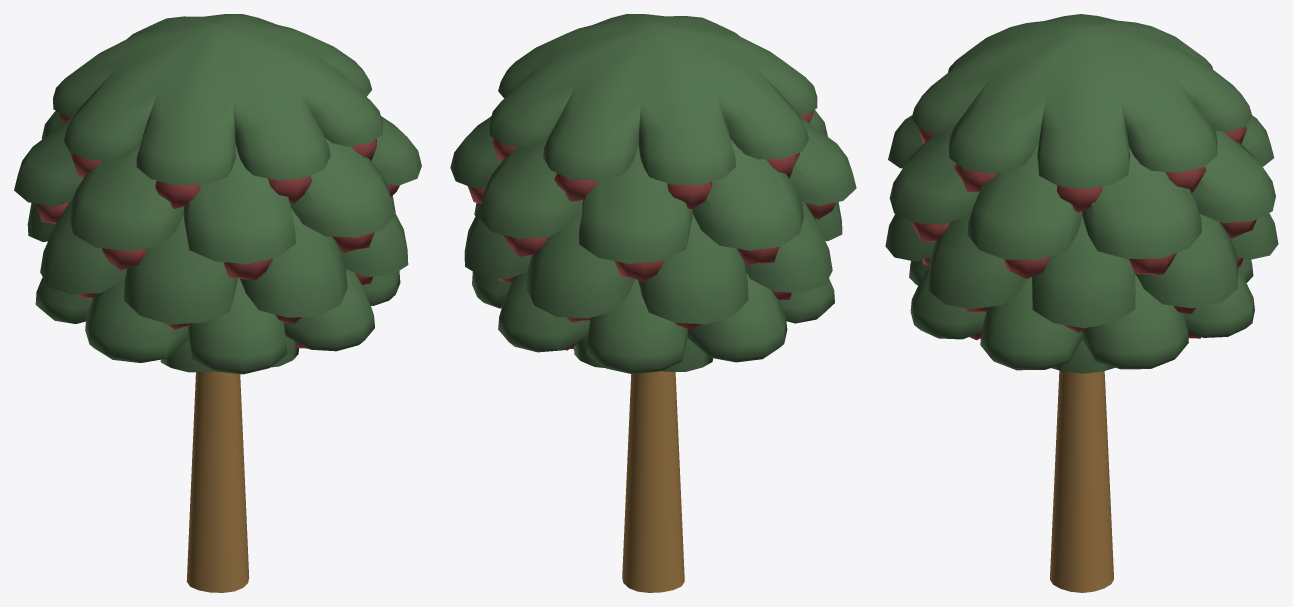
File: Tree_Fruit.001.fbx
3 renders of one model, left to right at view 1: azimuth 30°, elevation 25°; view 2: azimuth 150°, elevation 25°; view 3: azimuth 270°, elevation 25°, orthographic.
Visible parts, largest first — view 1: Tree_Fruit.001; view 2: Tree_Fruit.001; view 3: Tree_Fruit.001.
Part boxes in pixels (left/top/right/bottom): Tree_Fruit.001: left=14, top=14, right=421, bottom=592; Tree_Fruit.001: left=450, top=14, right=856, bottom=592; Tree_Fruit.001: left=885, top=14, right=1278, bottom=592.
Size of the model in its own units: 415 by 643 by 415.
